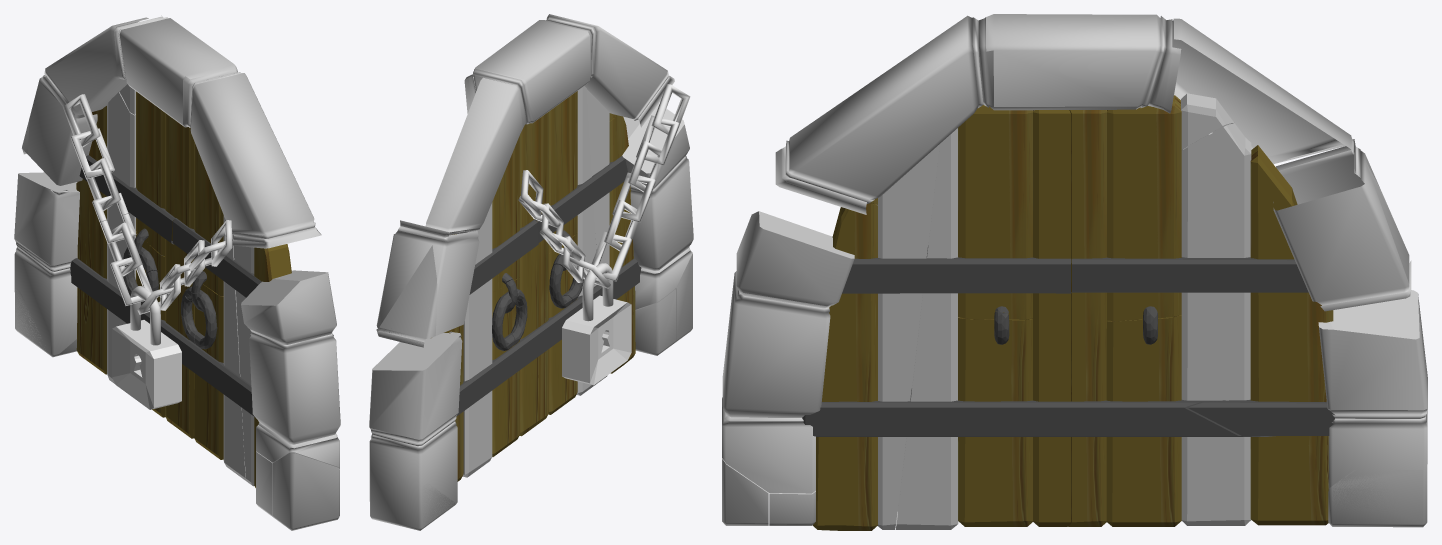
The model's file is DestructableDoor.fbx.
The picture shows the model from 3 angles, left to right: view 1: azimuth 30°, elevation 25°; view 2: azimuth 150°, elevation 25°; view 3: azimuth 270°, elevation 25°; orthographic projection. The views are drawn at different scales.
Parts seen in each view (by area): view 1: Cube.079, Cube.075, Cube.080_cell.001, Cube.082, Cube.078_cell.002, Cube.083_cell.001, lock_cell.065, WallWoodV.298_cell, Cube.074_cell.001, Cube.073, WallWoodV.296_cell, Cube.081_cell.002 (+31 smaller); view 2: Cube.081_cell.002, Cube.083_cell.001, Cube.082, Cube.080_cell.001, Cube.073, WallWoodV.298_cell, Cube.079, WallWoodV.293_cell, Cube.075, lock_cell.065, WallWoodV.296_cell, WallWoodV.297_cell (+30 smaller); view 3: WallWoodV.293_cell, Cube.079, Cube.080_cell.001, Cube.073, WallWoodV.296_cell, WallWoodV.290_cell, WallWoodV.292_cell.001, WallWoodV.298_cell.001, WallWoodV.291_cell, WallWoodV.297_cell, WallWoodV.292_cell, WallWoodV.297_cell.001 (+18 smaller).
Part boxes in pixels (bbox=[...]): Cube.079: bbox=[183, 68, 321, 248]; Cube.075: bbox=[249, 329, 340, 448]; Cube.080_cell.001: bbox=[114, 15, 237, 126]; Cube.082: bbox=[14, 239, 77, 356]; Cube.078_cell.002: bbox=[241, 270, 336, 342]; Cube.083_cell.001: bbox=[14, 172, 79, 265]; lock_cell.065: bbox=[112, 320, 181, 409]; WallWoodV.298_cell: bbox=[165, 113, 190, 437]; Cube.074_cell.001: bbox=[273, 453, 339, 530]; Cube.073: bbox=[22, 74, 97, 185]; WallWoodV.296_cell: bbox=[70, 258, 255, 417]; Cube.081_cell.002: bbox=[44, 17, 148, 115]; Cube.081_cell.002: bbox=[425, 77, 522, 235]; Cube.083_cell.001: bbox=[369, 332, 462, 439]; Cube.082: bbox=[369, 413, 457, 530]; Cube.080_cell.001: bbox=[464, 20, 589, 127]; Cube.073: bbox=[376, 220, 479, 347]; WallWoodV.298_cell: bbox=[518, 112, 548, 436]; Cube.079: bbox=[546, 14, 674, 127]; WallWoodV.293_cell: bbox=[462, 202, 492, 477]; Cube.075: bbox=[630, 155, 693, 273]; lock_cell.065: bbox=[562, 295, 631, 385]; WallWoodV.296_cell: bbox=[456, 258, 641, 416]; WallWoodV.297_cell: bbox=[548, 91, 577, 252]; WallWoodV.293_cell: bbox=[1181, 123, 1251, 525]; Cube.079: bbox=[775, 15, 1136, 214]; Cube.080_cell.001: bbox=[986, 14, 1181, 113]; Cube.073: bbox=[1273, 141, 1411, 311]; WallWoodV.296_cell: bbox=[802, 388, 1275, 436]; WallWoodV.290_cell: bbox=[812, 202, 877, 530]; WallWoodV.292_cell.001: bbox=[1107, 95, 1181, 321]; WallWoodV.298_cell.001: bbox=[1032, 110, 1070, 526]; WallWoodV.291_cell: bbox=[896, 128, 958, 529]; WallWoodV.297_cell: bbox=[958, 105, 1032, 319]; WallWoodV.292_cell: bbox=[1106, 315, 1181, 526]; WallWoodV.297_cell.001: bbox=[958, 317, 1032, 526].
Bounding box in the file's own units: 39.92 × 157 × 205.
